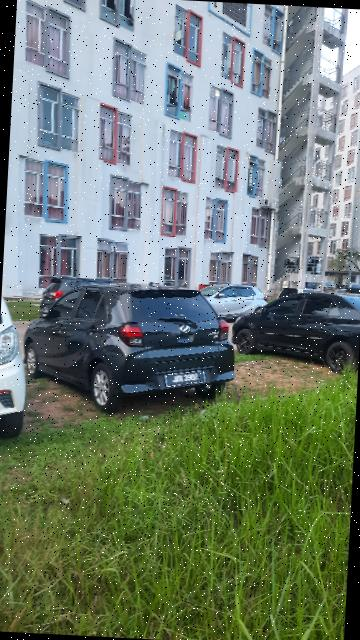License_Plate: (165, 369, 211, 391)
car: (20, 280, 244, 418)
